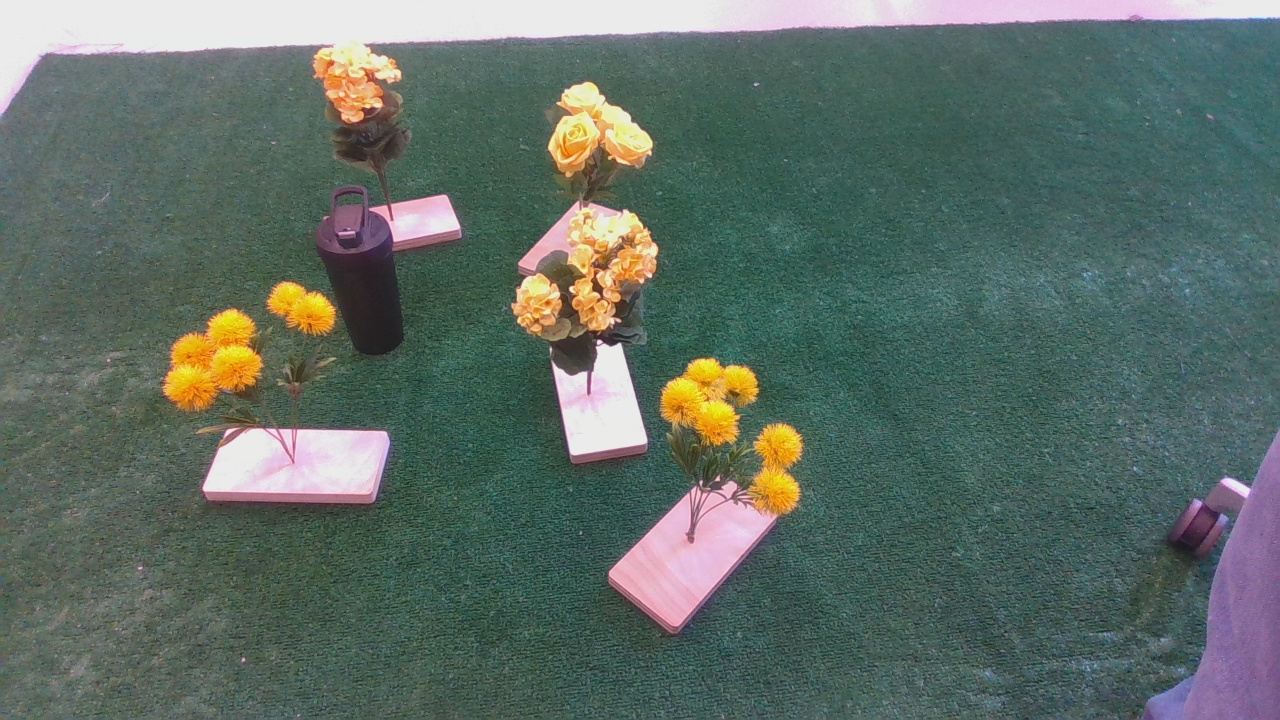dandelion: (650, 362, 827, 527), (163, 290, 341, 432)
geranium: (514, 216, 666, 353), (308, 49, 445, 181)
rose: (532, 76, 662, 192)
